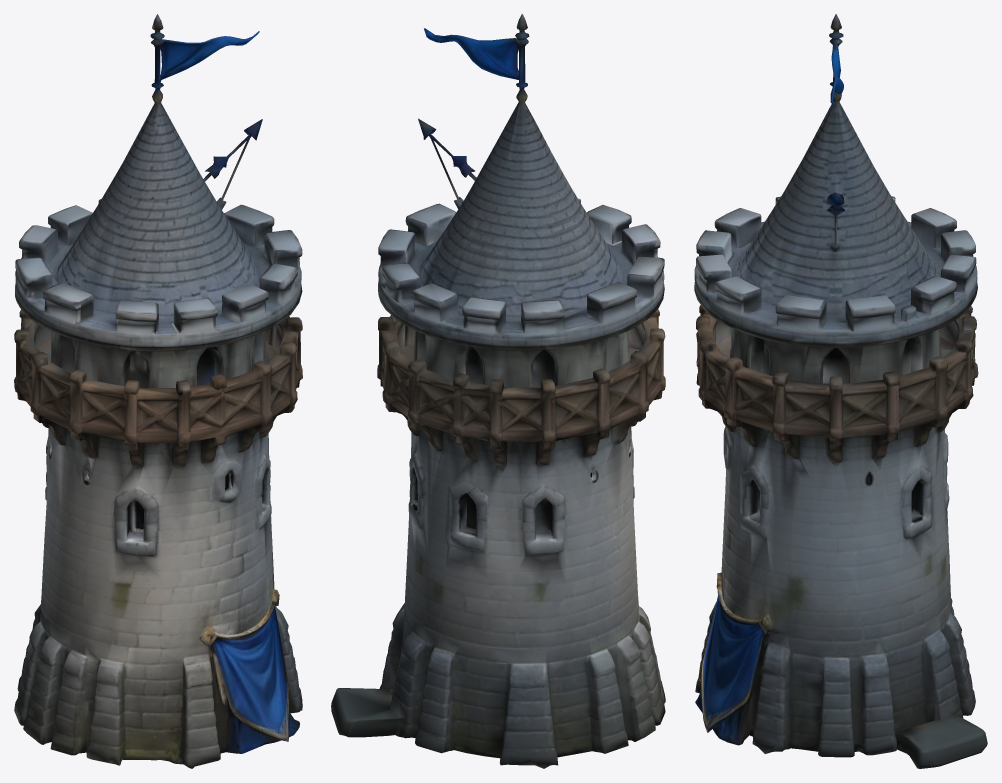
Rendered from hum_tower.glb.
The picture shows the model from 3 angles, left to right: view 1: azimuth 30°, elevation 25°; view 2: azimuth 150°, elevation 25°; view 3: azimuth 270°, elevation 25°; orthographic projection.
Parts seen in each view (by area): view 1: node_0; view 2: node_0; view 3: node_0.
Part boxes in pixels (<box>): node_0: <box>14,14,302,768</box>; node_0: <box>331,14,665,768</box>; node_0: <box>694,14,987,768</box>.
Size of the model in its own units: 0.4428 by 1.09 by 0.4197.
Materials: 1 (1 with a texture image).
